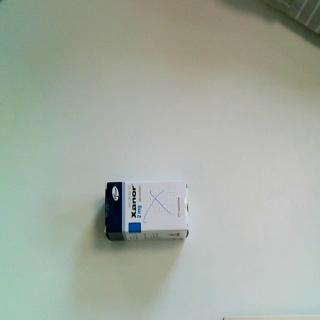xanor2mg: (104, 179, 190, 243)
